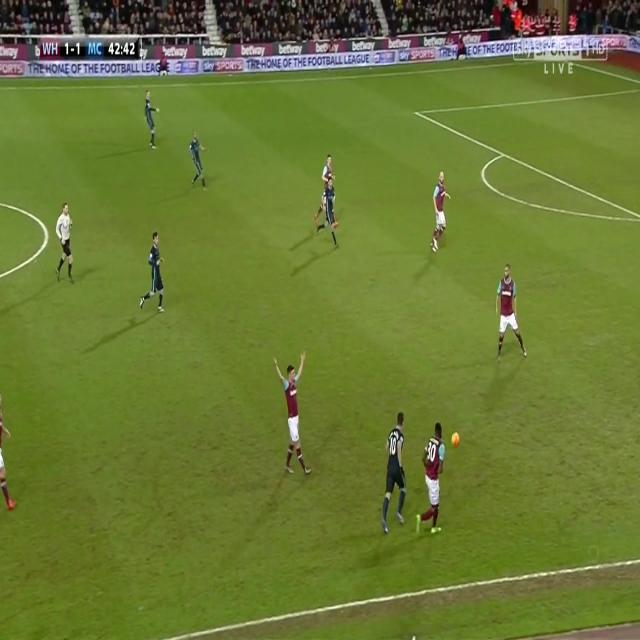Ball: (448, 428, 462, 452)
Player: (270, 340, 315, 482), (378, 409, 409, 538), (413, 420, 446, 538), (494, 261, 526, 362), (428, 166, 454, 258), (139, 229, 165, 318), (316, 178, 341, 251), (142, 89, 163, 153), (312, 153, 333, 217), (188, 132, 209, 192)
Referee: (53, 200, 75, 285)
